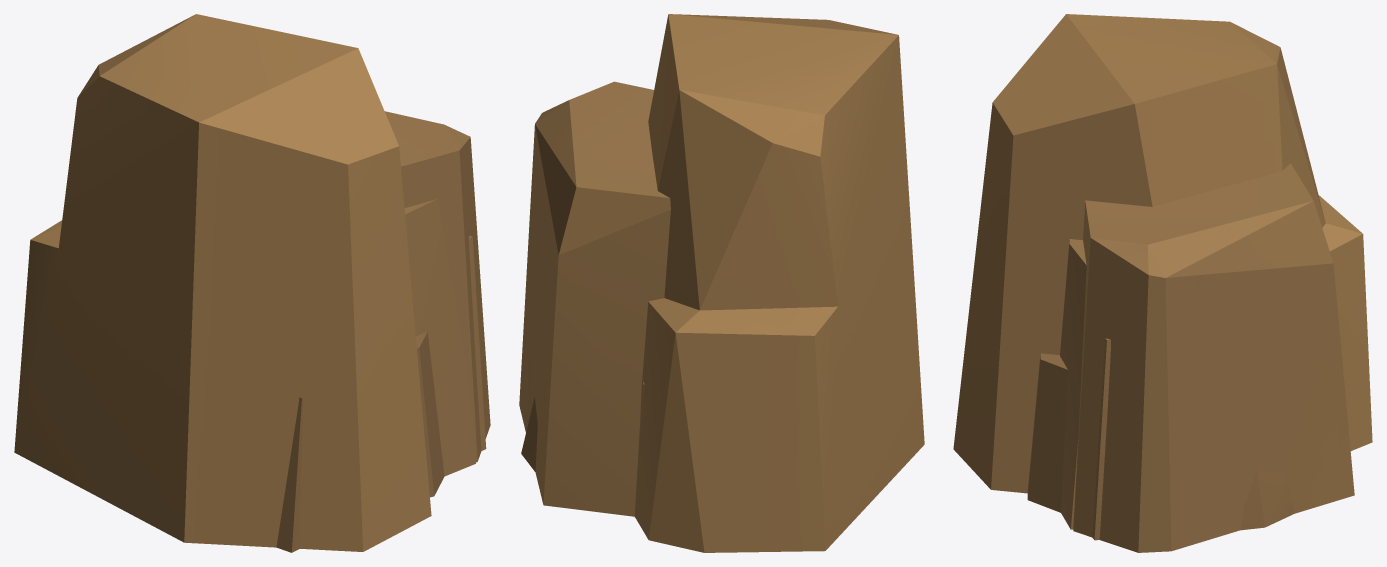
Rendered from Rock_set.fbx.
3 views of the same model, side by side, from view 1: azimuth 30°, elevation 25°; view 2: azimuth 150°, elevation 25°; view 3: azimuth 270°, elevation 25° (orthographic). The views are drawn at different scales.
Visible parts, largest first — view 1: Hill_A, Hill_C, Hill_D; view 2: Hill_A, Hill_D; view 3: Hill_A, Hill_D, Hill_C.
Part boxes in pixels (bbox=[...]): Hill_A: bbox=[14, 14, 490, 551]; Hill_C: bbox=[404, 199, 486, 476]; Hill_D: bbox=[276, 331, 444, 552]; Hill_A: bbox=[519, 14, 924, 552]; Hill_D: bbox=[521, 382, 645, 517]; Hill_A: bbox=[953, 14, 1372, 552]; Hill_D: bbox=[1027, 353, 1294, 530]; Hill_C: bbox=[1060, 239, 1110, 540].
Size of the model in its own units: 7514 by 7717 by 7518.
